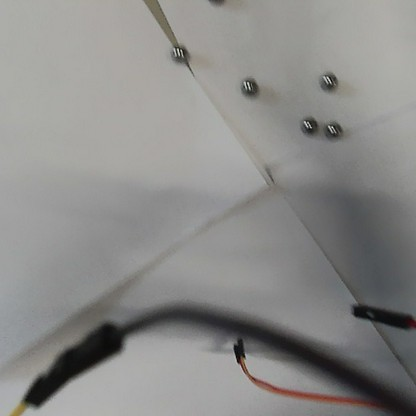ironball: (168, 44, 186, 61), (241, 77, 257, 93), (302, 116, 315, 132), (326, 121, 339, 136), (322, 74, 336, 87)
